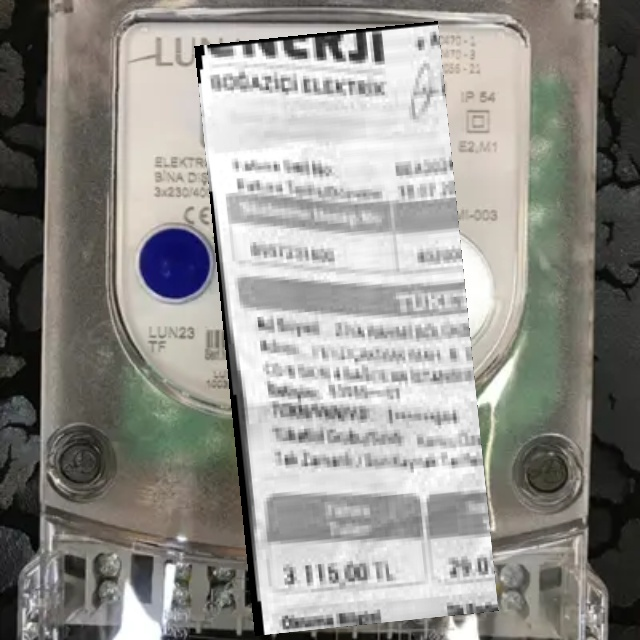electricity-bill: (194, 20, 498, 636)
